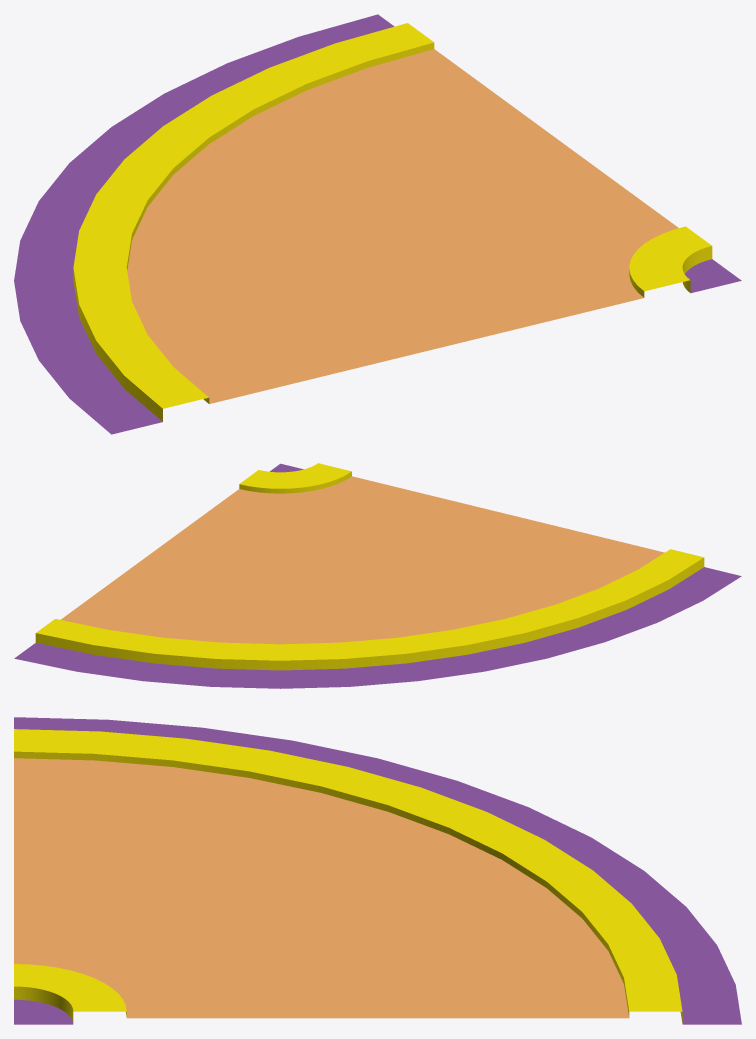
Rendered from roadCornerSmall.glb.
3 renders of one model, top to bottom at view 1: azimuth 30°, elevation 25°; view 2: azimuth 150°, elevation 25°; view 3: azimuth 270°, elevation 25°, orthographic. The views are drawn at different scales.
Parts seen in each view (by area): view 1: roadCornerSmall(Clone); view 2: roadCornerSmall(Clone); view 3: roadCornerSmall(Clone).
Boxes of the visible parts, x1,y1,x2,y2 form: roadCornerSmall(Clone): (14,14,741,434); roadCornerSmall(Clone): (14,463,741,688); roadCornerSmall(Clone): (14,717,741,1024).
Size of the model in its own units: 1 by 0.02 by 1.
